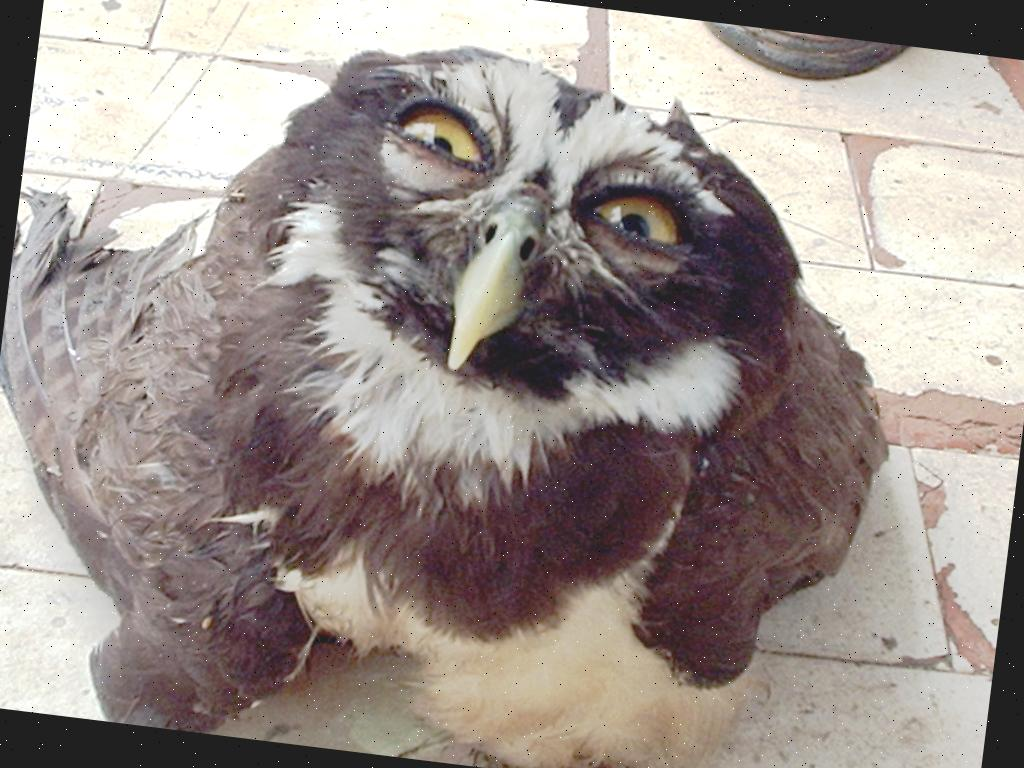Owl: (0, 0, 935, 768)
